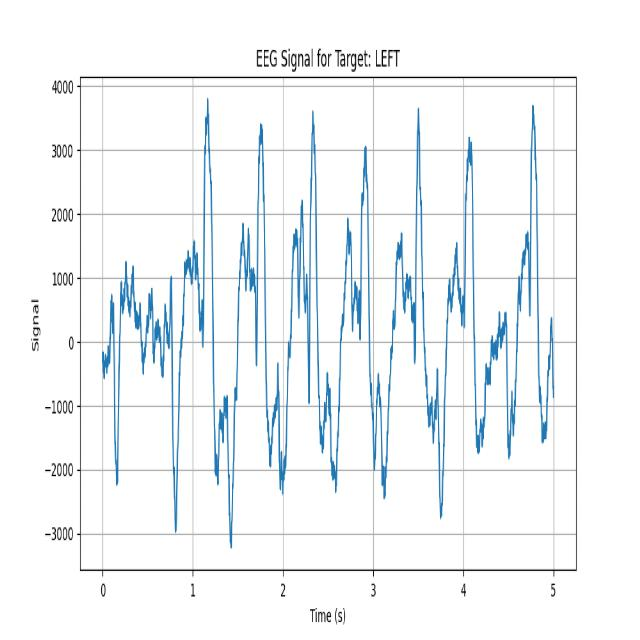LEFT: (172, 87, 229, 560), (384, 91, 442, 553), (282, 91, 336, 561), (442, 92, 493, 562), (335, 93, 385, 560), (231, 91, 280, 559), (506, 99, 555, 559)
